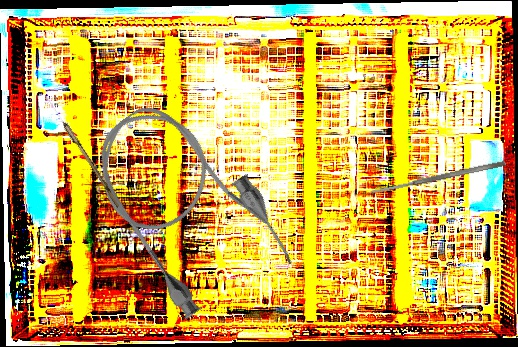Cannula: (70, 79, 304, 332)
Spatula Surgical: (370, 159, 507, 196)
Surgical Spoon: (42, 94, 123, 208)
